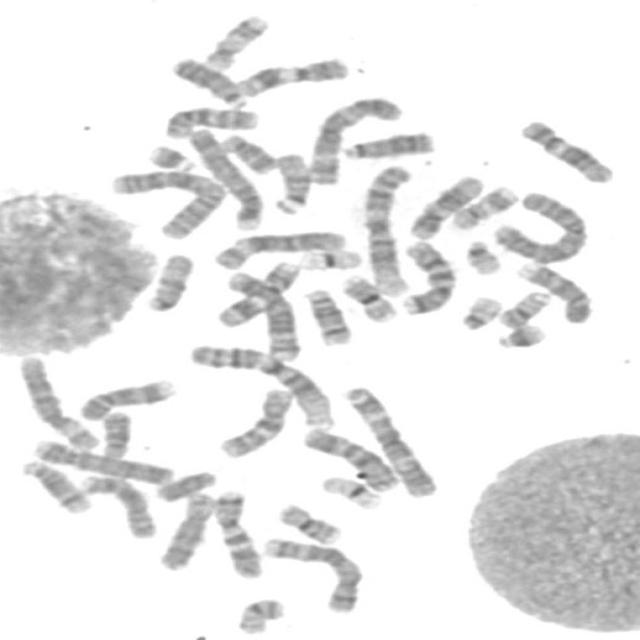A1: (183, 338, 338, 431), (356, 160, 416, 298)
A2: (103, 163, 231, 241), (487, 185, 592, 264)
A3: (338, 379, 442, 498), (300, 90, 407, 185)
B4: (180, 122, 266, 232), (27, 434, 177, 486)
B5: (256, 530, 366, 615), (219, 264, 304, 363)
C10: (211, 382, 298, 460), (157, 100, 262, 140)
C11: (210, 255, 304, 329), (229, 51, 352, 98)
C12: (513, 113, 618, 185), (403, 169, 488, 240)
C6: (12, 349, 102, 453), (206, 224, 350, 271)
C7: (206, 484, 266, 580), (394, 234, 460, 316)
C8: (73, 469, 161, 540), (150, 485, 218, 572)
C9: (510, 256, 596, 324), (72, 372, 178, 422)
D13: (164, 51, 251, 109), (336, 125, 437, 160)
D14: (13, 454, 94, 514), (298, 283, 356, 347)
D15: (138, 248, 196, 314), (267, 147, 314, 216)
E16: (335, 269, 400, 324), (270, 498, 344, 545)
E17: (196, 8, 272, 70), (445, 180, 521, 232)
E18: (215, 129, 279, 175), (92, 406, 134, 460)
F19: (315, 470, 387, 511), (294, 242, 366, 272)
F20: (493, 286, 553, 330), (230, 592, 289, 636)
G21: (141, 138, 200, 172), (489, 318, 550, 350)
G22: (454, 290, 506, 331), (458, 234, 506, 276)
X: (297, 422, 404, 493)
Y: (148, 465, 220, 504)
